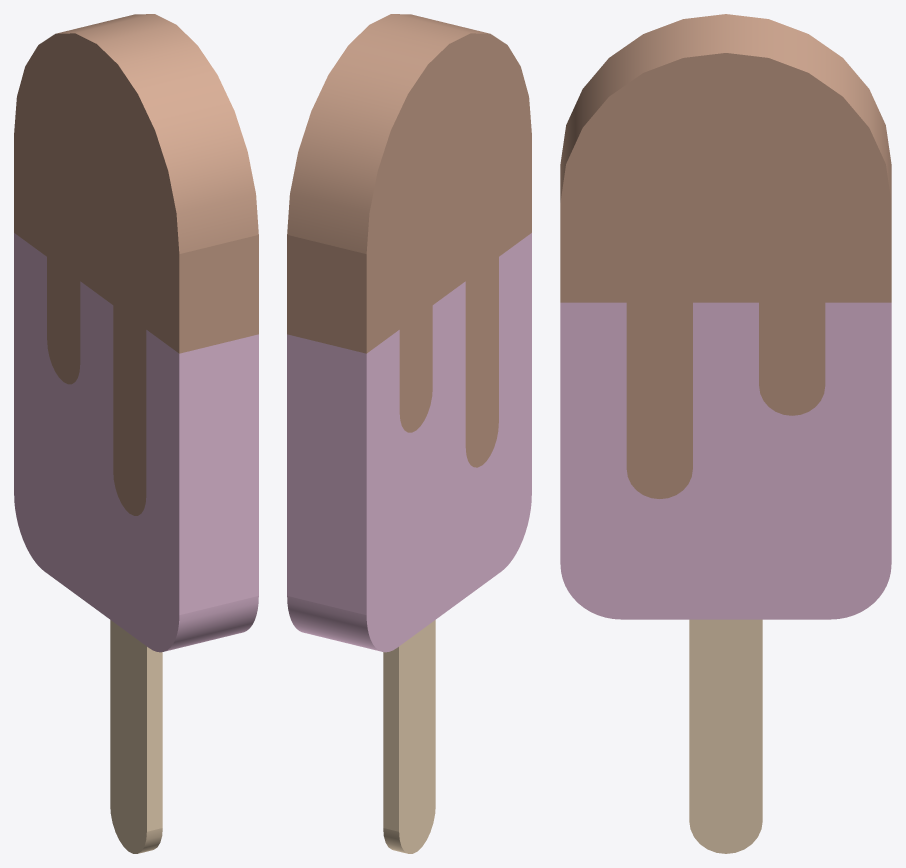
File: popsicle_chocolate.glb
3 views of the same model, side by side, from view 1: azimuth 30°, elevation 25°; view 2: azimuth 150°, elevation 25°; view 3: azimuth 270°, elevation 25° (orthographic).
Parts seen in each view (by area): view 1: popsicleChocolate; view 2: popsicleChocolate; view 3: popsicleChocolate.
Part boxes in pixels (<box>): popsicleChocolate: <box>14,14,258,853</box>; popsicleChocolate: <box>287,14,531,853</box>; popsicleChocolate: <box>560,14,891,853</box>.
Bounding box in the file's own units: 0.05 × 0.49 × 0.18.
